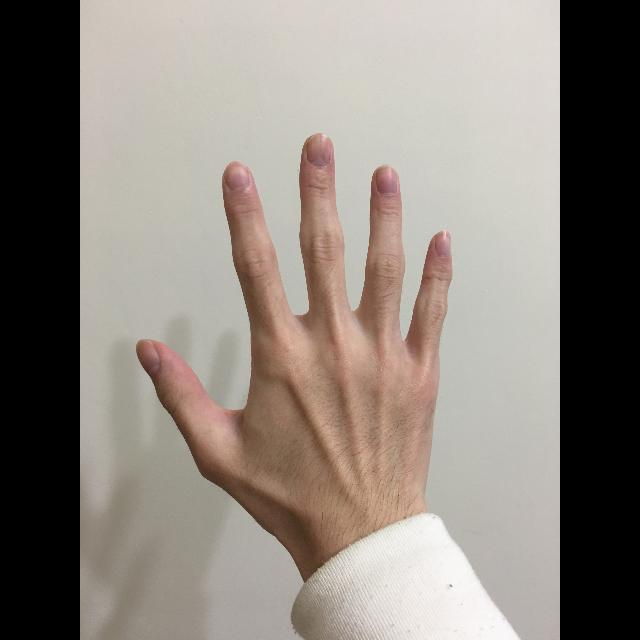bare_hand: (136, 133, 453, 506)
